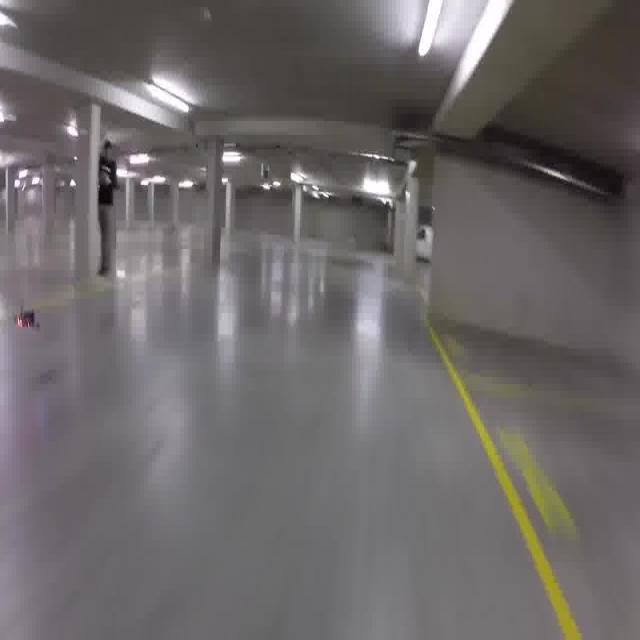drones: (5, 292, 43, 346)
